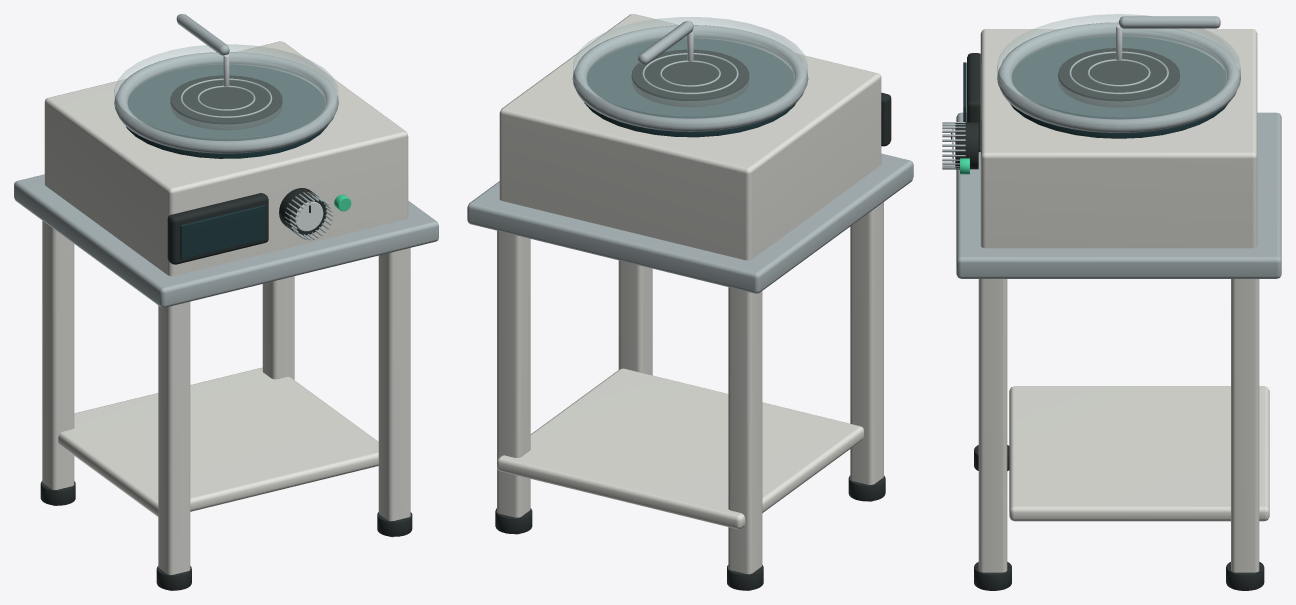
File: dryer.glb
3 views of the same model, side by side, from view 1: azimuth 30°, elevation 25°; view 2: azimuth 150°, elevation 25°; view 3: azimuth 270°, elevation 25° (orthographic). The views are drawn at different scales.
Parts seen in each view (by area): view 1: Equipment_dryer_Ceramic ivory, Equipment_dryer_Brushed stainless, Door.001_Quartz inspection, Equipment_dryer_Knurled graphite, Equipment_dryer_Instrument glass, LCD.002, Knob_main.002, Tool_Brushed stainless, Equipment_dryer_Machined aluminium; view 2: Equipment_dryer_Ceramic ivory, Equipment_dryer_Brushed stainless, Door.001_Quartz inspection, Equipment_dryer_Instrument glass, Equipment_dryer_Knurled graphite, Tool_Brushed stainless; view 3: Equipment_dryer_Ceramic ivory, Equipment_dryer_Brushed stainless, Door.001_Quartz inspection, Equipment_dryer_Instrument glass, Equipment_dryer_Knurled graphite, Tool_Brushed stainless, Knob_main.002.
Part boxes in pixels (x1,y1,x2,y2): Equipment_dryer_Ceramic ivory: [42, 41, 410, 590]; Equipment_dryer_Brushed stainless: [14, 52, 438, 307]; Door.001_Quartz inspection: [114, 44, 338, 147]; Equipment_dryer_Knurled graphite: [40, 75, 412, 590]; Equipment_dryer_Instrument glass: [126, 64, 327, 158]; LCD.002: [180, 205, 265, 259]; Knob_main.002: [279, 188, 326, 235]; Tool_Brushed stainless: [176, 14, 229, 55]; Equipment_dryer_Machined aluminium: [295, 201, 323, 231]; Equipment_dryer_Ceramic ivory: [497, 14, 883, 590]; Equipment_dryer_Brushed stainless: [467, 25, 913, 293]; Door.001_Quartz inspection: [573, 17, 807, 125]; Equipment_dryer_Instrument glass: [584, 38, 795, 137]; Equipment_dryer_Knurled graphite: [495, 49, 891, 590]; Tool_Brushed stainless: [638, 21, 693, 64]; Equipment_dryer_Ceramic ivory: [978, 29, 1269, 589]; Equipment_dryer_Brushed stainless: [942, 22, 1281, 278]; Door.001_Quartz inspection: [997, 14, 1240, 126]; Equipment_dryer_Instrument glass: [1010, 36, 1228, 138]; Equipment_dryer_Knurled graphite: [951, 48, 1264, 590]; Tool_Brushed stainless: [1119, 16, 1220, 28]; Knob_main.002: [955, 122, 978, 169].
Bounding box in the file's own units: 0.86 × 1.39 × 0.835.
